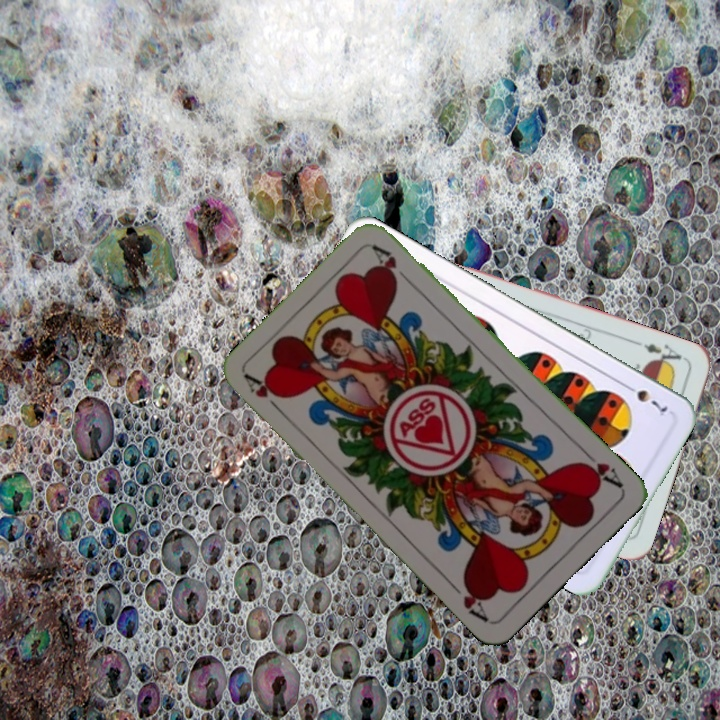EA: (631, 337, 689, 371)
HA: (576, 445, 625, 491), (241, 370, 287, 418)
S7: (619, 379, 671, 419)
